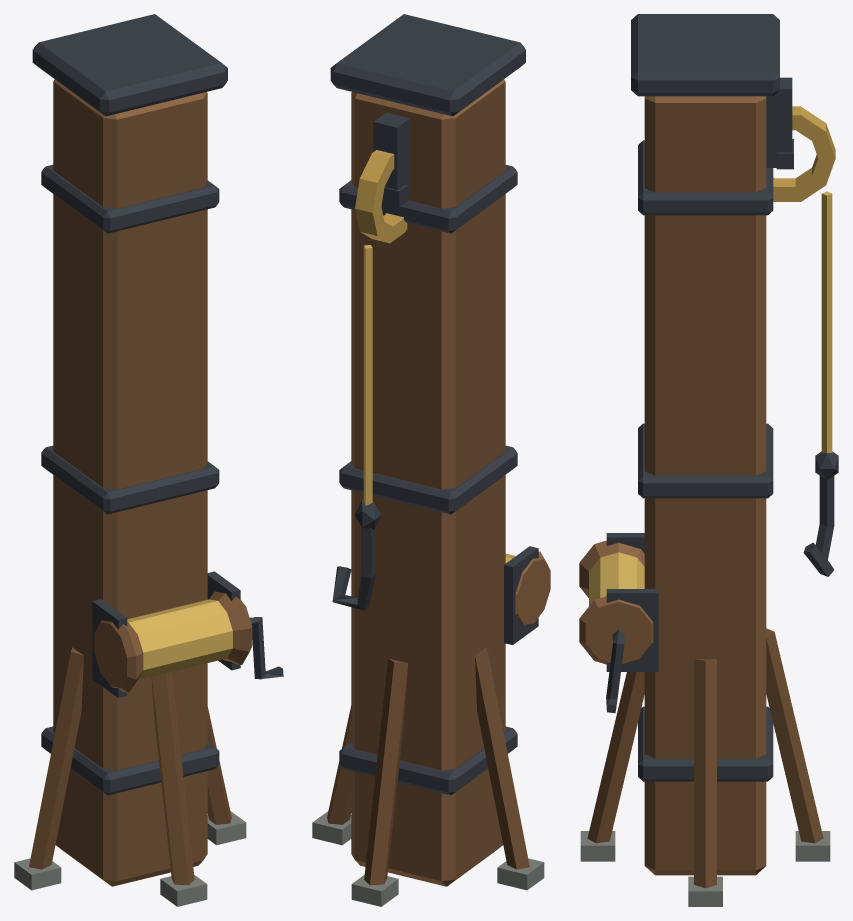
File: Crane.obj
3 renders of one model, left to right at view 1: azimuth 30°, elevation 25°; view 2: azimuth 150°, elevation 25°; view 3: azimuth 270°, elevation 25°, orthographic.
Bounding box in the file's own units: 1.44 × 5.16 × 1.5.
